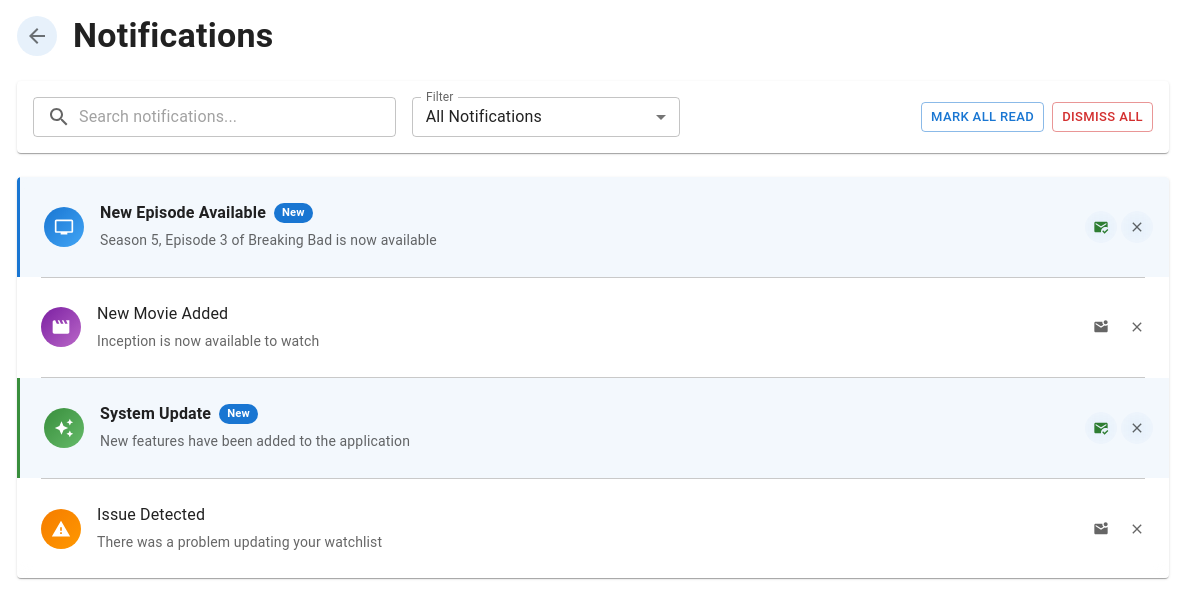
Test case: Notifications › filtering › should filter notifications by system type
Click the dropdown at (484, 117), box [426,108,542,126]
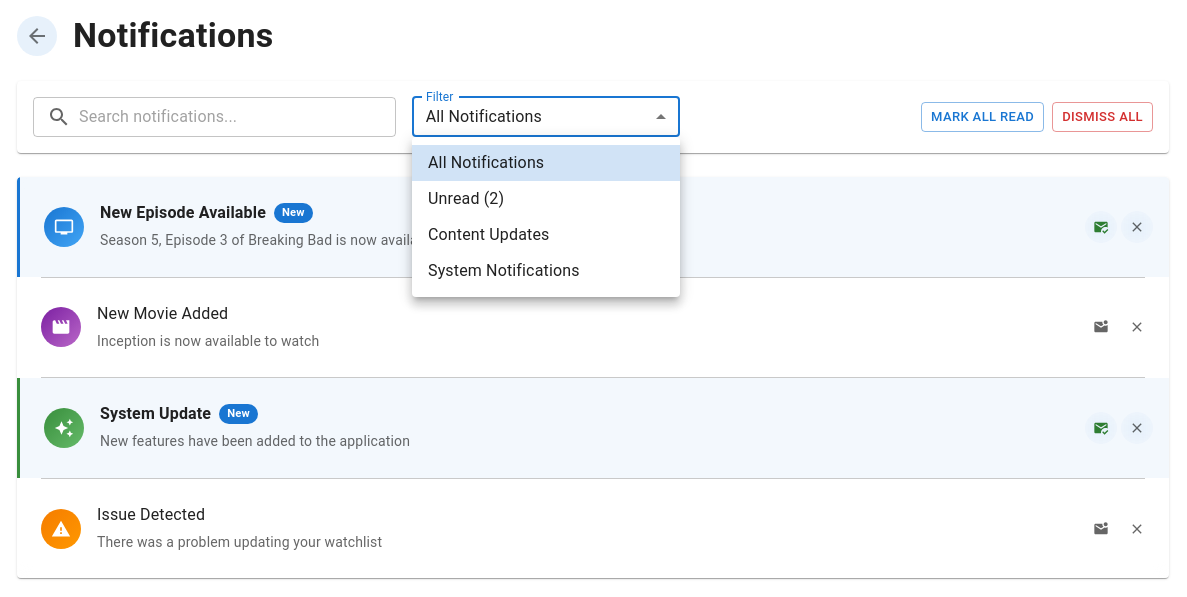
Click the option "System Notifications" at (504, 270), box [428,261,580,280]
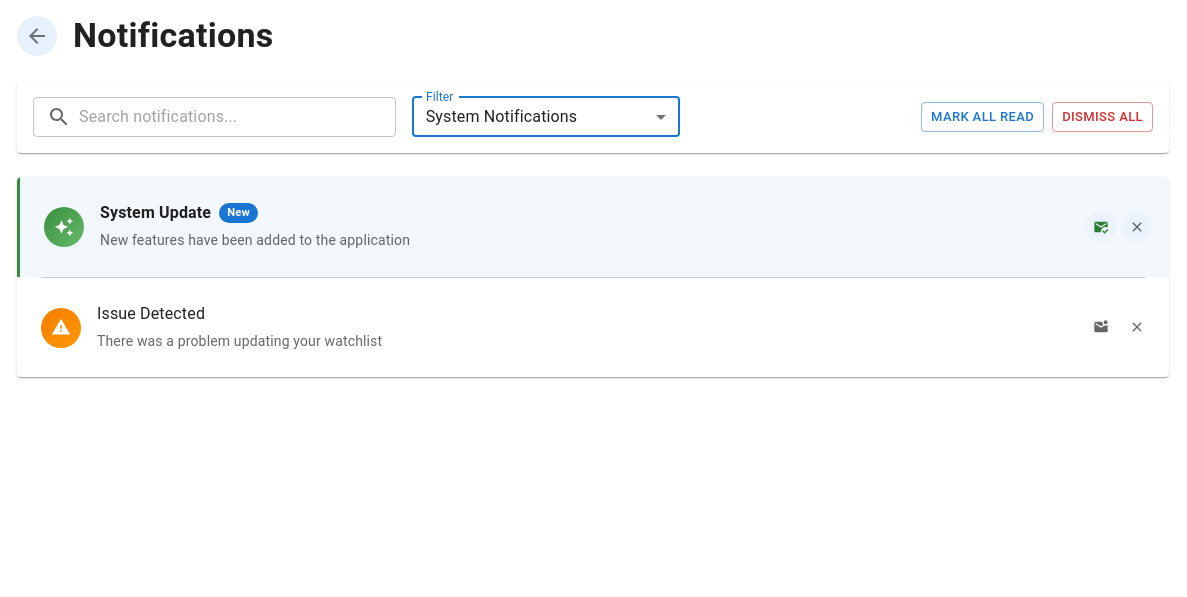
Result: the heading "New Episode Available" is gone
